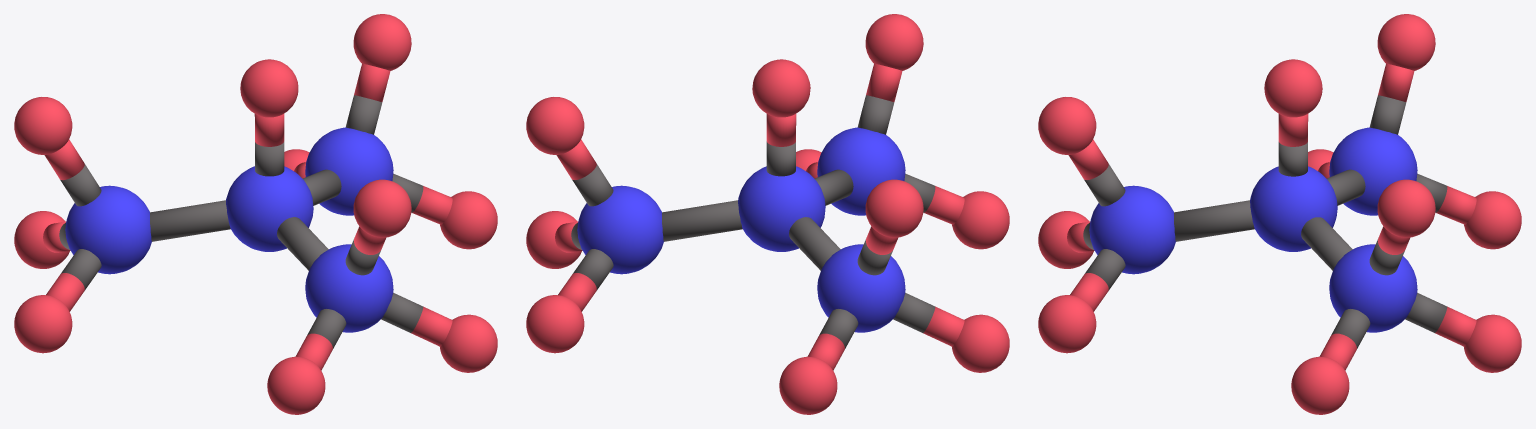
The model's file is изобутан.gltf.
3 renders of one model, left to right at view 1: azimuth 30°, elevation 25°; view 2: azimuth 150°, elevation 25°; view 3: azimuth 270°, elevation 25°, orthographic.
Parts seen in each view (by area): view 1: Cylinder.022, Cylinder.015, Cylinder.010, Cylinder.033, Cylinder.009, Cylinder.008, Cylinder.025, Cylinder.006, Cylinder.021, Cylinder.032, Cylinder.013, Cylinder.030 (+21 smaller); view 2: Cylinder.033, Cylinder.015, Cylinder.022, Cylinder.010, Cylinder.009, Cylinder.021, Cylinder.036, Cylinder.019, Cylinder.032, Cylinder.008, Cylinder.025, Cylinder.006 (+21 smaller); view 3: Cylinder.010, Cylinder.015, Cylinder.033, Cylinder.022, Cylinder.009, Cylinder.032, Cylinder.013, Cylinder.030, Cylinder.008, Cylinder.021, Cylinder.036, Cylinder.019 (+21 smaller).
Part boxes in pixels (x1,y1,x2,y2): Cylinder.022: (65,185,151,274); Cylinder.015: (226,166,313,251); Cylinder.010: (305,244,393,332); Cylinder.033: (305,127,393,215); Cylinder.009: (240,59,298,117); Cylinder.008: (353,179,411,237); Cylinder.025: (14,295,72,353); Cylinder.006: (267,356,325,414); Cylinder.021: (14,97,72,154); Cylinder.032: (353,14,411,70); Cylinder.013: (440,314,497,372); Cylinder.030: (440,191,497,249); Cylinder.033: (577,185,663,274); Cylinder.015: (738,166,825,251); Cylinder.022: (817,244,905,332); Cylinder.010: (817,127,905,215); Cylinder.009: (752,59,810,117); Cylinder.021: (865,179,923,237); Cylinder.036: (526,295,584,353); Cylinder.019: (779,356,837,414); Cylinder.032: (526,97,584,154); Cylinder.008: (865,14,923,70); Cylinder.025: (952,314,1009,372); Cylinder.006: (952,191,1009,249); Cylinder.010: (1089,185,1175,274); Cylinder.015: (1250,166,1337,251); Cylinder.033: (1329,244,1417,332); Cylinder.022: (1329,127,1417,215); Cylinder.009: (1264,59,1322,117); Cylinder.032: (1377,179,1435,237); Cylinder.013: (1038,295,1096,353); Cylinder.030: (1291,356,1349,414); Cylinder.008: (1038,97,1096,154); Cylinder.021: (1377,14,1435,70); Cylinder.036: (1464,314,1521,372); Cylinder.019: (1464,191,1521,249).
Bounding box in the file's own units: 12.42 × 6.14 × 10.93.
